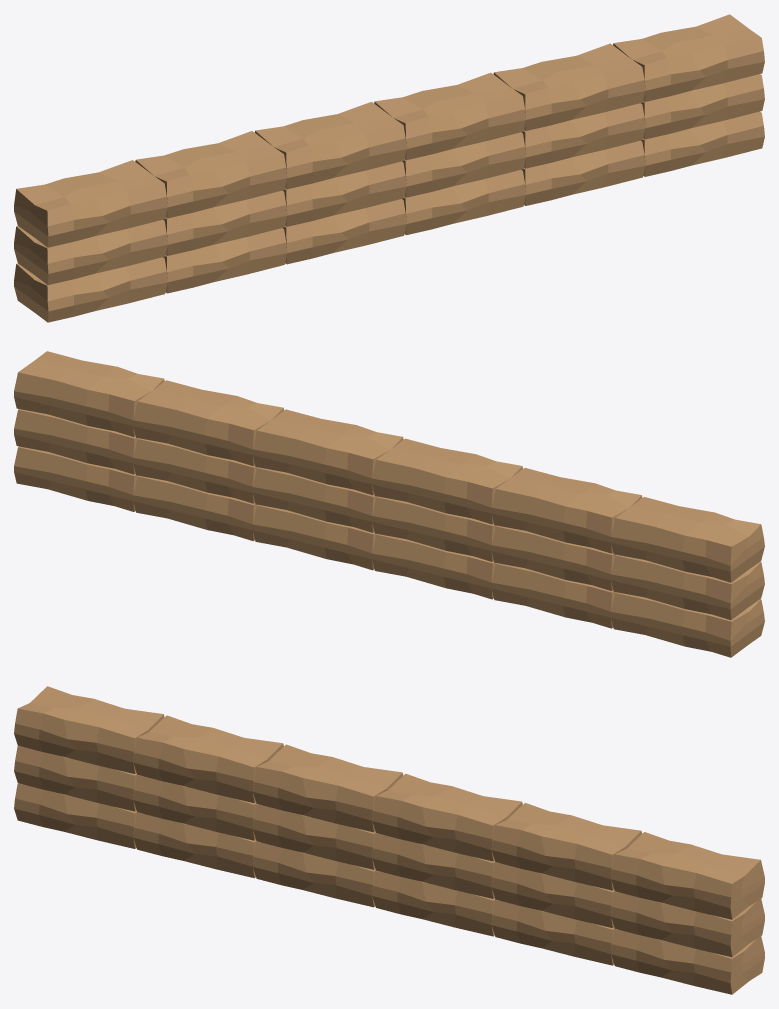
The model's file is SandbagWallV1.glb.
3 renders of one model, top to bottom at view 1: azimuth 30°, elevation 25°; view 2: azimuth 150°, elevation 25°; view 3: azimuth 330°, elevation 25°, orthographic.
Visible parts, largest first — view 1: SandbagWallV1; view 2: SandbagWallV1; view 3: SandbagWallV1.
Part boxes in pixels (<box>): SandbagWallV1: <box>14,14,764,322</box>; SandbagWallV1: <box>14,351,764,657</box>; SandbagWallV1: <box>14,686,764,994</box>.
Size of the model in its own units: 6 by 0.8999 by 0.5058.
1 material, 1 textured.
